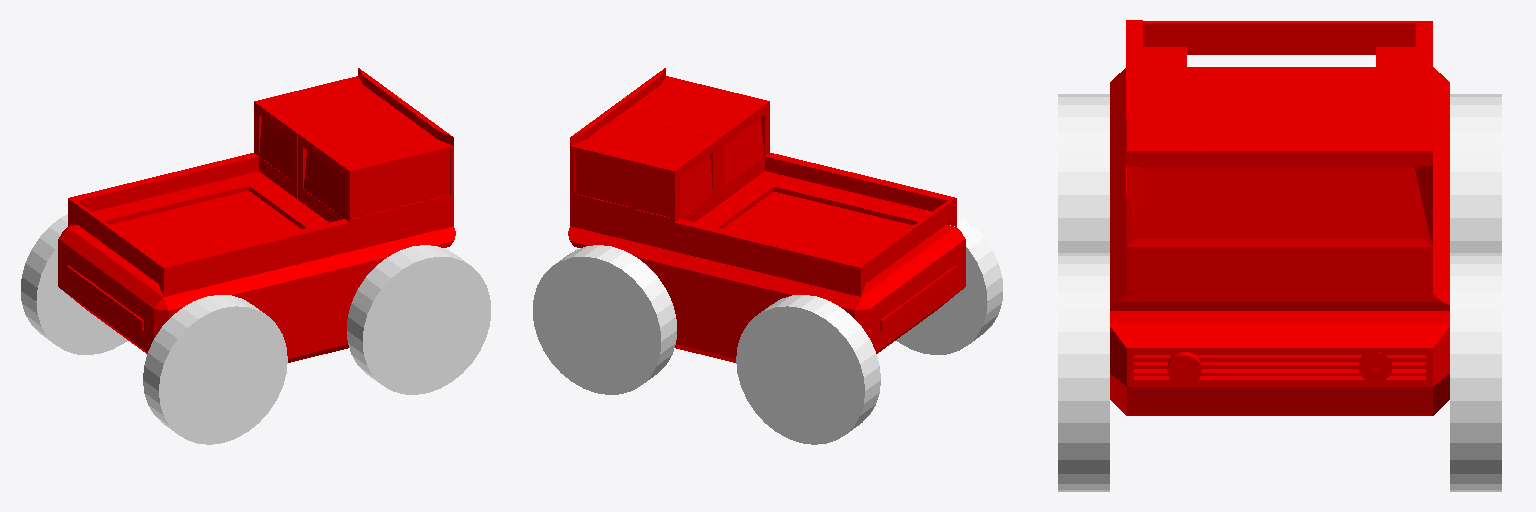
The robot description file, URDF, robot "basic_mobile_robot":
<?xml version="1.0" ?>
<!-- =================================================================================== -->
<!-- |    This document was autogenerated by xacro from basic_mobile_robot.urdf        | -->
<!-- |    EDITING THIS FILE BY HAND IS NOT RECOMMENDED                                 | -->
<!-- =================================================================================== -->
<robot name="basic_mobile_robot">
  <!-- ****************** ROBOT BASE FOOTPRINT ***************************  -->
  <link name="base_footprint"/>
  <joint name="base_joint" type="fixed">
    <parent link="base_footprint"/>
    <child link="base_link"/>
    <origin rpy="0 0 0" xyz="0.0 0.0 0.19"/>
  </joint>
  <!-- ********************** ROBOT BASE *********************************  -->
  <link name="base_link">
    <visual>
      <origin rpy="1.5707963267949 0 3.141592654" xyz="0 0 -0.05"/>
      <geometry>
        <mesh filename="meshes/robot_base.stl"/>
      </geometry>
      <material name="Red">
        <color rgba="1.0 0.0 0.0 1.0"/>
      </material>
    </visual>
    <collision>
      <geometry>
        <box size="0.7 0.39 0.2"/>
      </geometry>
    </collision>
    <inertial>
      <origin rpy="1.5707963267948966 0 1.5707963267948966" xyz="0 0 0"/>
      <mass value="40.0"/>
      <inertia ixx="1.7666666666666664" ixy="0.0" ixz="0.0" iyy="2.140333333333333" iyz="0.0" izz="0.6403333333333334"/>
    </inertial>
  </link>
  <gazebo reference="base_link">
    <material>Gazebo/Red</material>
  </gazebo>
  <link name="drivewhl_l_link">
    <visual>
      <origin rpy="1.5707963267949 0 0" xyz="0 0 0"/>
      <geometry>
        <cylinder length="0.06" radius="0.14"/>
      </geometry>
      <material name="White">
        <color rgba="1.0 1.0 1.0 1.0"/>
      </material>
    </visual>
    <collision>
      <origin rpy="1.5707963267948966 0 0" xyz="0 0 0"/>
      <geometry>
        <cylinder length="0.06" radius="0.14"/>
      </geometry>
    </collision>
    <inertial>
      <origin rpy="1.5707963267948966 0 0" xyz="0 0 0"/>
      <mass value="110.5"/>
      <inertia ixx="0.5746000000000001" ixy="0" ixz="0" iyy="0.5746000000000001" iyz="0" izz="1.0829000000000002"/>
    </inertial>
  </link>
  <joint name="drivewhl_l_joint" type="revolute">
    <parent link="base_link"/>
    <child link="drivewhl_l_link"/>
    <origin rpy="0 0 0" xyz="-0.221 0.23 -0.05"/>
    <limit effort="30" lower="-3.1415" upper="3.1415" velocity="5.0"/>
    <axis xyz="0 1 0"/>
  </joint>
	<link name="drivewhl_l_front_link">
    <visual>
      <origin rpy="1.5707963267949 0 0" xyz="0 0 0"/>
      <geometry>
        <cylinder length="0.06" radius="0.14"/>
      </geometry>
      <material name="White">
        <color rgba="1.0 1.0 1.0 1.0"/>
      </material>
    </visual>
    <collision>
      <origin rpy="1.5707963267948966 0 0" xyz="0 0 0"/>
      <geometry>
        <cylinder length="0.06" radius="0.14"/>
      </geometry>
    </collision>
    <inertial>
      <origin rpy="1.5707963267948966 0 0" xyz="0 0 0"/>
      <mass value="110.5"/>
      <inertia ixx="0.5746000000000001" ixy="0" ixz="0" iyy="0.5746000000000001" iyz="0" izz="1.0829000000000002"/>
    </inertial>
  </link>
  <joint name="drivewhl_l_front_joint" type="revolute">
    <parent link="base_link"/>
    <child link="drivewhl_l_front_link"/>
    <origin rpy="0 0 0" xyz="0.221 0.23 -0.05"/>
    <limit effort="30" lower="-3.1415" upper="3.1415" velocity="5.0"/>
    <axis xyz="0 1 0"/>
  </joint>
  <link name="drivewhl_r_link">
    <visual>
      <origin rpy="1.5707963267949 0 0" xyz="0 0 0"/>
      <geometry>
        <cylinder length="0.06" radius="0.14"/>
      </geometry>
      <material name="White">
        <color rgba="1.0 1.0 1.0 1.0"/>
      </material>
    </visual>
    <collision>
      <origin rpy="1.5707963267948966 0 0" xyz="0 0 0"/>
      <geometry>
        <cylinder length="0.06" radius="0.14"/>
      </geometry>
    </collision>
    <inertial>
      <origin rpy="1.5707963267948966 0 0" xyz="0 0 0"/>
      <mass value="110.5"/>
      <inertia ixx="0.5746000000000001" ixy="0" ixz="0" iyy="0.5746000000000001" iyz="0" izz="1.0829000000000002"/>
    </inertial>
  </link>
  <joint name="drivewhl_r_joint" type="revolute">
    <parent link="base_link"/>
    <child link="drivewhl_r_link"/>
    <origin rpy="0 0 0" xyz="-0.221 -0.23 -0.05"/>
    <limit effort="30" lower="-3.1415" upper="3.1415" velocity="5.0"/>
    <axis xyz="0 1 0"/>
  </joint>
	<link name="drivewhl_r_front_link">
    <visual>
      <origin rpy="1.5707963267949 0 0" xyz="0 0 0"/>
      <geometry>
        <cylinder length="0.06" radius="0.14"/>
      </geometry>
      <material name="White">
        <color rgba="1.0 1.0 1.0 1.0"/>
      </material>
    </visual>
    <collision>
      <origin rpy="1.5707963267948966 0 0" xyz="0 0 0"/>
      <geometry>
        <cylinder length="0.06" radius="0.14"/>
      </geometry>
    </collision>
    <inertial>
      <origin rpy="1.5707963267948966 0 0" xyz="0 0 0"/>
      <mass value="110.5"/>
      <inertia ixx="0.5746000000000001" ixy="0" ixz="0" iyy="0.5746000000000001" iyz="0" izz="1.0829000000000002"/>
    </inertial>
  </link>
  <joint name="drivewhl_r_front_joint" type="revolute">
    <parent link="base_link"/>
    <child link="drivewhl_r_front_link"/>
    <origin rpy="0 0 0" xyz="0.221 -0.23 -0.05"/>
    <limit effort="30" lower="-3.1415" upper="3.1415" velocity="5.0"/>
    <axis xyz="0 1 0"/>
  </joint>
  <!-- *********************** IMU SETUP *********************************  -->
  <joint name="imu_joint" type="fixed">
    <parent link="base_link"/>
    <child link="imu_link"/>
    <origin rpy="0 0 0" xyz="-0.10 0 0.05"/>
  </joint>
  <link name="imu_link"/>
  <!-- *********************** GPS SETUP **********************************  -->
  <joint name="gps_joint" type="fixed">
    <parent link="base_link"/>
    <child link="gps_link"/>
    <origin rpy="0 0 0" xyz="0.10 0 0.05"/>
  </joint>
  <link name="gps_link"/>
</robot>

--- Facts derived from the render (not from the file) ---
3 views of the same robot in one strip: view 1: azimuth 30°, elevation 25°; view 2: azimuth 150°, elevation 25°; view 3: azimuth 270°, elevation 25° (orthographic).
Robot: basic_mobile_robot — 8 links, 7 joints (4 revolute, 3 fixed); root link base_footprint; default pose: all joints at 0.
Links seen in each view (by area): view 1: base_link, drivewhl_r_link, drivewhl_r_front_link, drivewhl_l_link; view 2: base_link, drivewhl_l_link, drivewhl_l_front_link, drivewhl_r_link; view 3: base_link, drivewhl_l_front_link, drivewhl_r_front_link, drivewhl_l_link, drivewhl_r_link.
Boxes of the visible links, x1,y1,x2,y2 form: base_link: (58, 68, 455, 362); drivewhl_r_link: (143, 295, 287, 444); drivewhl_r_front_link: (347, 245, 490, 394); drivewhl_l_link: (21, 214, 127, 354); base_link: (568, 68, 965, 362); drivewhl_l_link: (736, 295, 880, 444); drivewhl_l_front_link: (533, 245, 676, 394); drivewhl_r_link: (896, 215, 1002, 354); base_link: (1110, 20, 1449, 415); drivewhl_l_front_link: (1450, 253, 1501, 491); drivewhl_r_front_link: (1058, 253, 1109, 491); drivewhl_l_link: (1450, 94, 1501, 252); drivewhl_r_link: (1058, 94, 1109, 252).
Bounding box of the posed robot: 0.722 × 0.52 × 0.4747 m (x, y, z).
Meshes: 1 distinct files referenced, 1 mesh visuals loaded (1 binary STL).